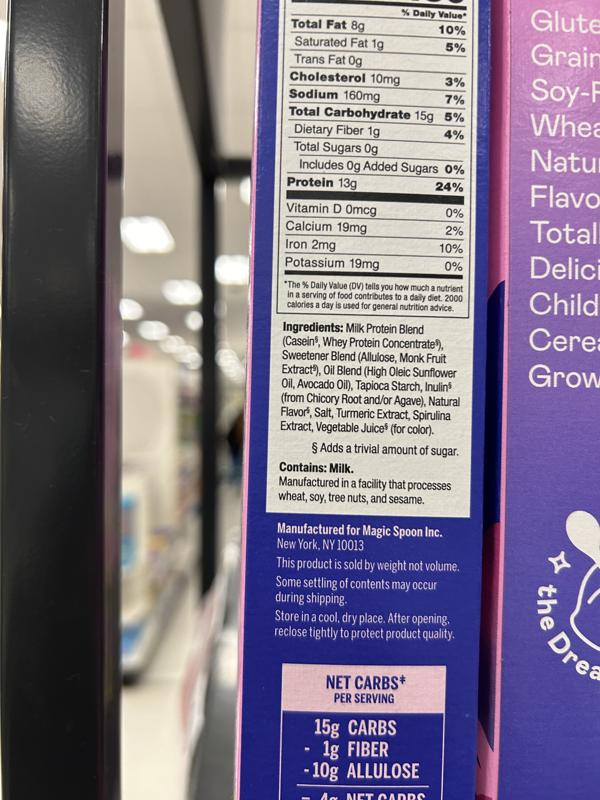ingredients: (278, 320, 460, 437)
